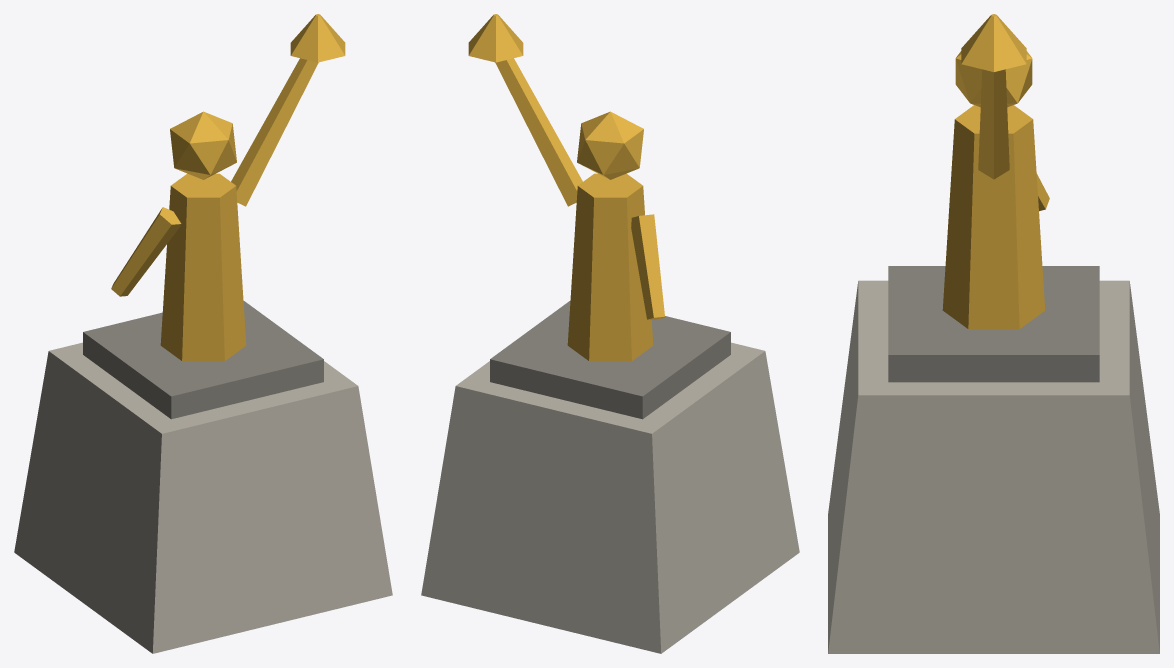
Rendered from statue.glb.
The picture shows the model from 3 angles, left to right: view 1: azimuth 30°, elevation 25°; view 2: azimuth 150°, elevation 25°; view 3: azimuth 270°, elevation 25°; orthographic projection. The views are drawn at different scales.
Visible parts, largest first — view 1: statue; view 2: statue; view 3: statue.
Part boxes in pixels (left/top/right/bottom): statue: left=14, top=14, right=392, bottom=653; statue: left=421, top=14, right=799, bottom=653; statue: left=828, top=14, right=1159, bottom=653.
Size of the model in its own units: 2.4 by 4.65 by 2.2.
